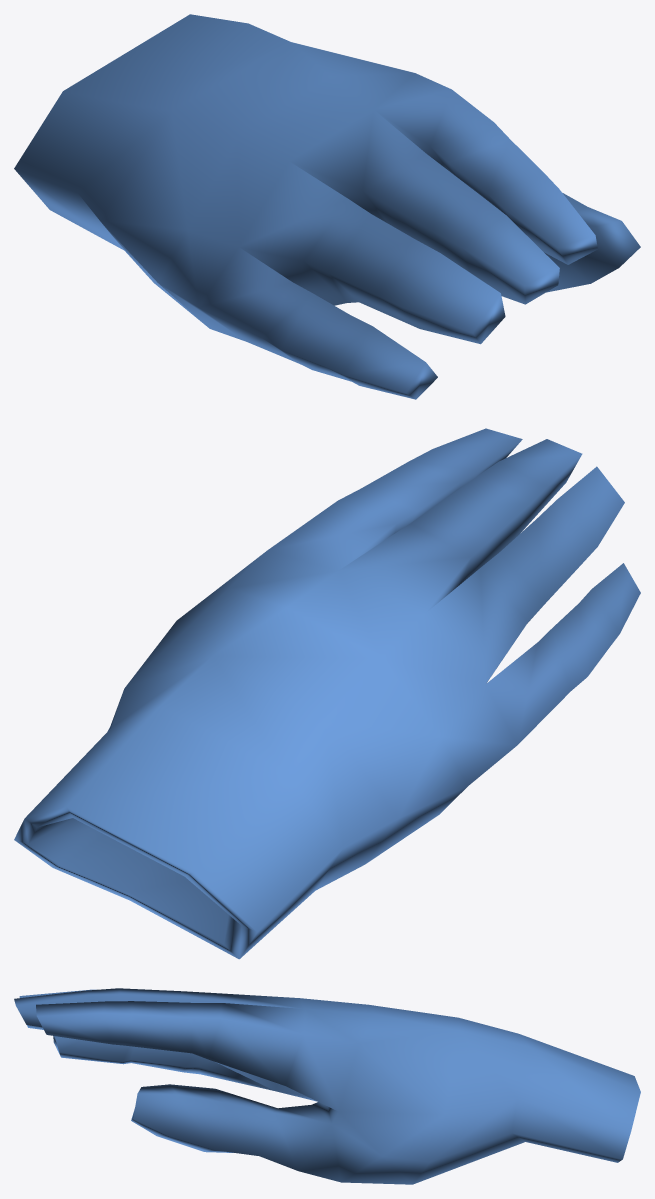
File: human-household-items-medical-glove_v2.glb
3 views of the same model, one above another, from view 1: azimuth 30°, elevation 25°; view 2: azimuth 150°, elevation 25°; view 3: azimuth 270°, elevation 25° (orthographic). The views are drawn at different scales.
Visible parts, largest first — view 1: Medical Glove_v2; view 2: Medical Glove_v2; view 3: Medical Glove_v2.
Part boxes in pixels (x1,y1,x2,y2): Medical Glove_v2: (14,14,640,399); Medical Glove_v2: (14,428,640,959); Medical Glove_v2: (14,988,640,1184).
Bounding box in the file's own units: 0.1165 × 0.0771 × 0.25.
